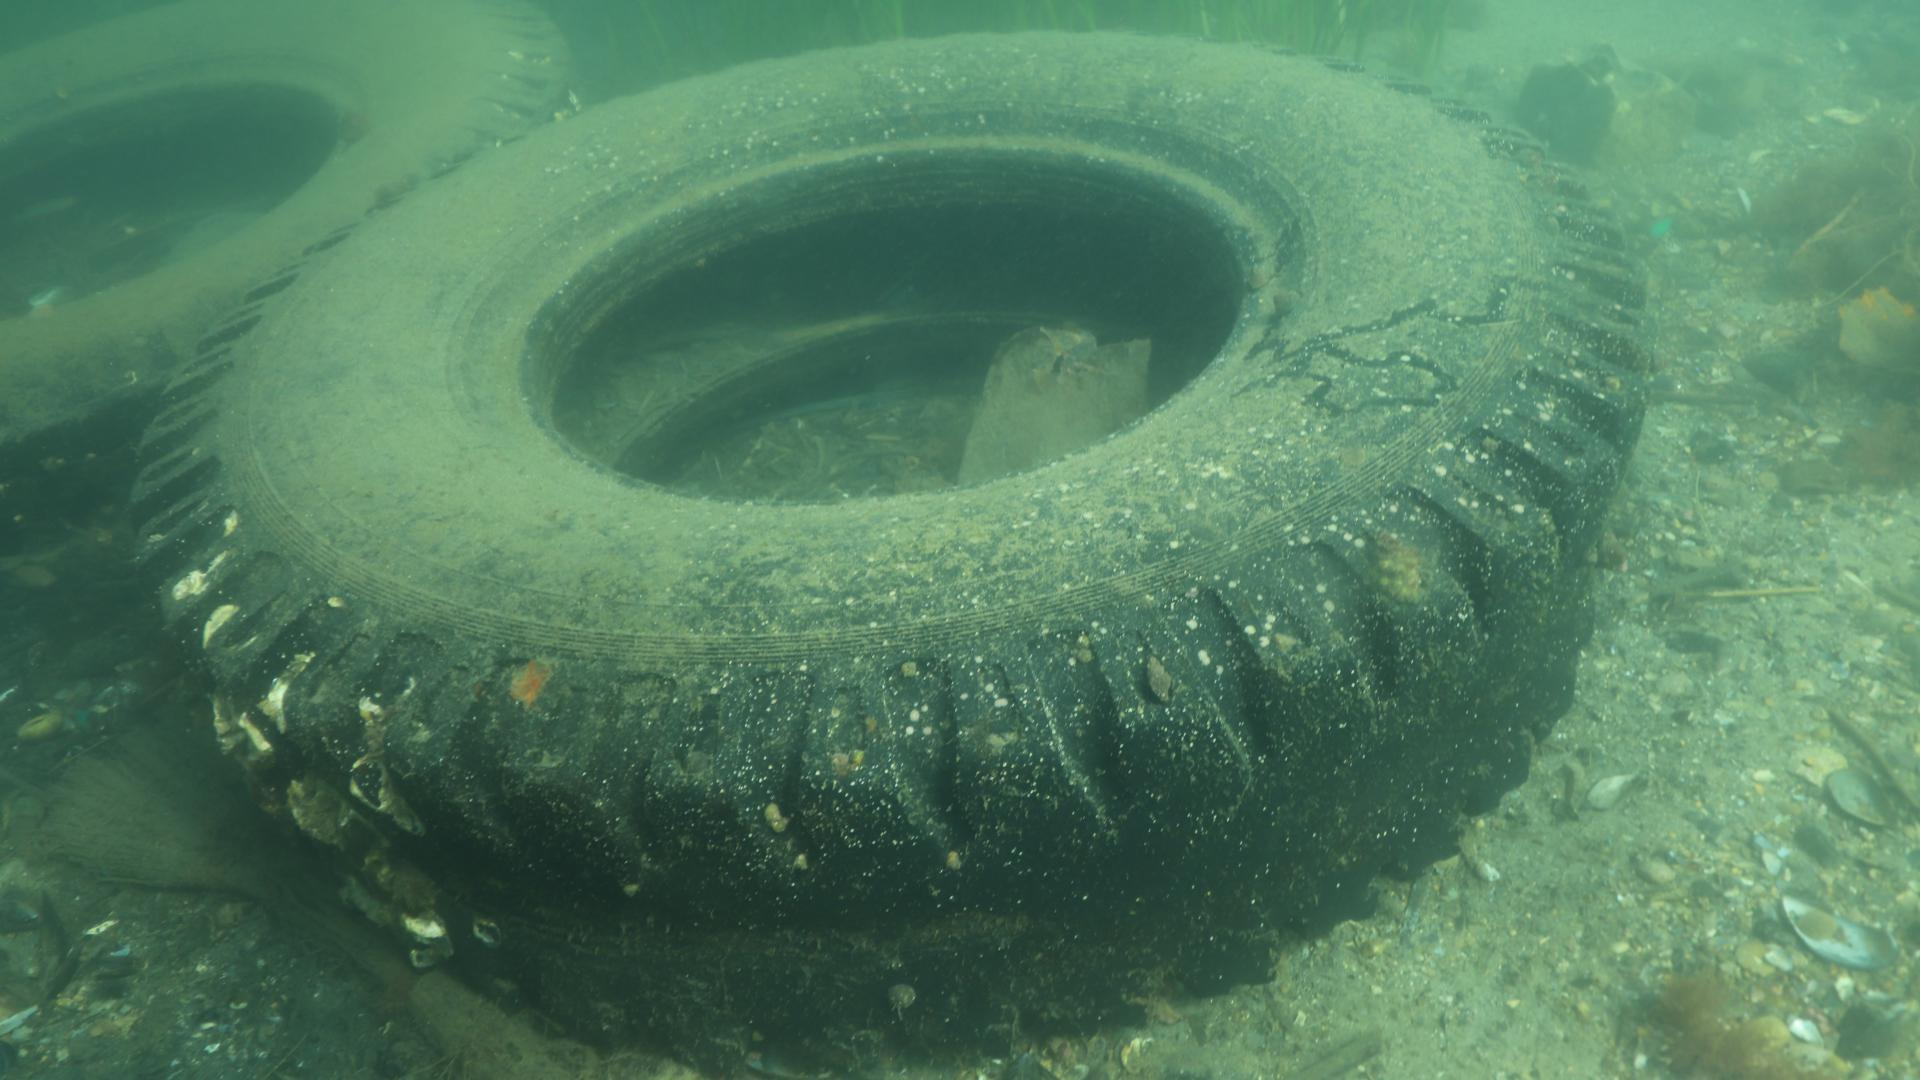tire: (131, 29, 1648, 1062), (0, 0, 578, 600)
